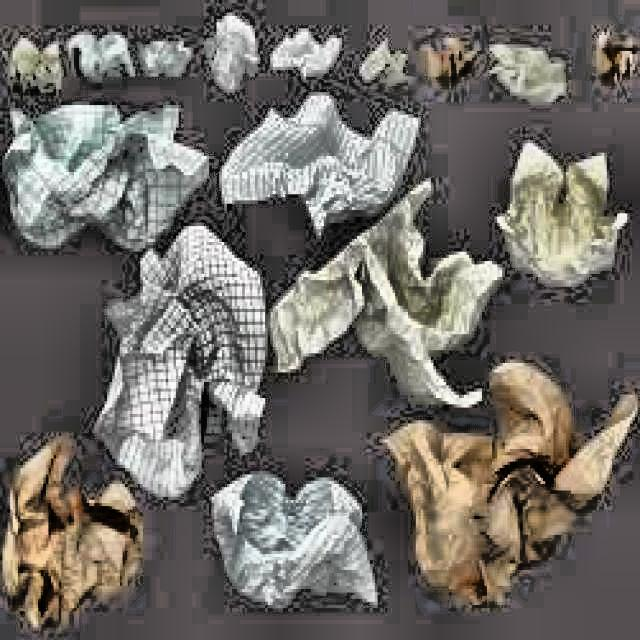Paper: (375, 350, 637, 605), (263, 169, 502, 414), (95, 217, 266, 497), (217, 86, 421, 232), (3, 99, 207, 245), (0, 430, 143, 627), (209, 468, 375, 611), (492, 134, 625, 287), (487, 38, 564, 108), (204, 10, 255, 86), (268, 26, 339, 80), (421, 29, 477, 86), (5, 35, 59, 92), (69, 29, 132, 77), (355, 32, 406, 80), (594, 25, 632, 86), (140, 32, 189, 76)
